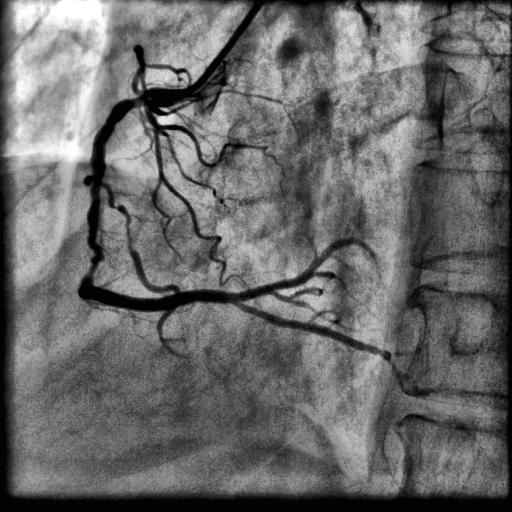pborca: (238, 238, 360, 300)
pda: (235, 303, 391, 361)
rca: (78, 87, 245, 311)
